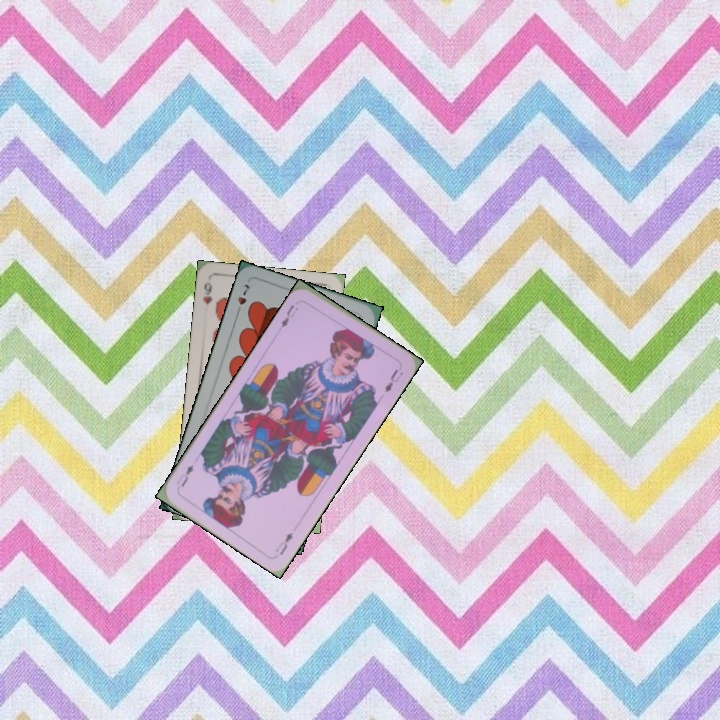EU: (277, 300, 301, 330), (271, 528, 295, 558)
H7: (232, 280, 252, 318)
H9: (199, 278, 215, 307)
